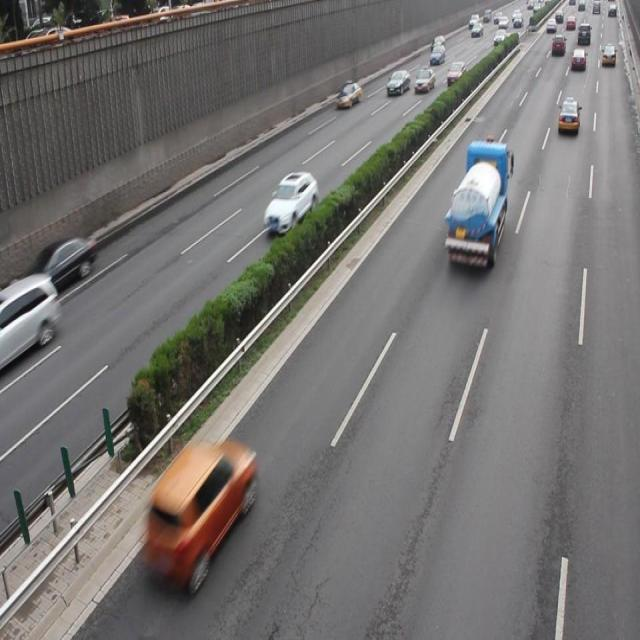bus: (445, 140, 507, 267)
car: (141, 442, 254, 580), (26, 235, 98, 290), (263, 172, 318, 236), (556, 99, 578, 134)
truck: (1, 273, 59, 366)
